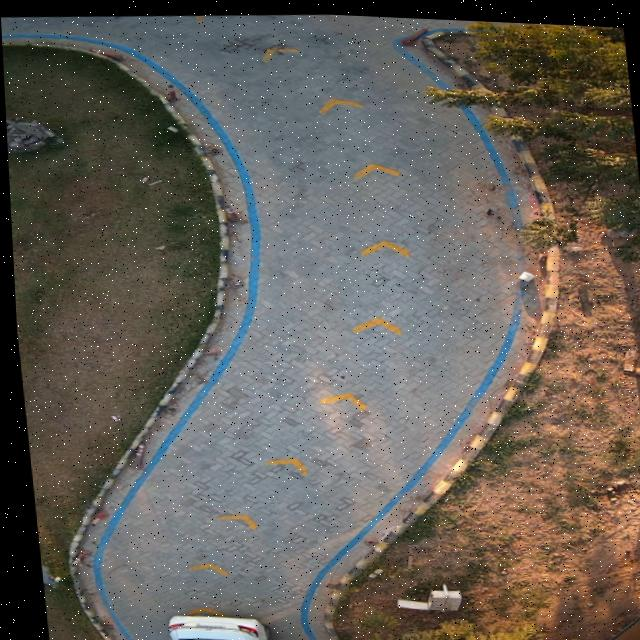car: (162, 610, 268, 640)
